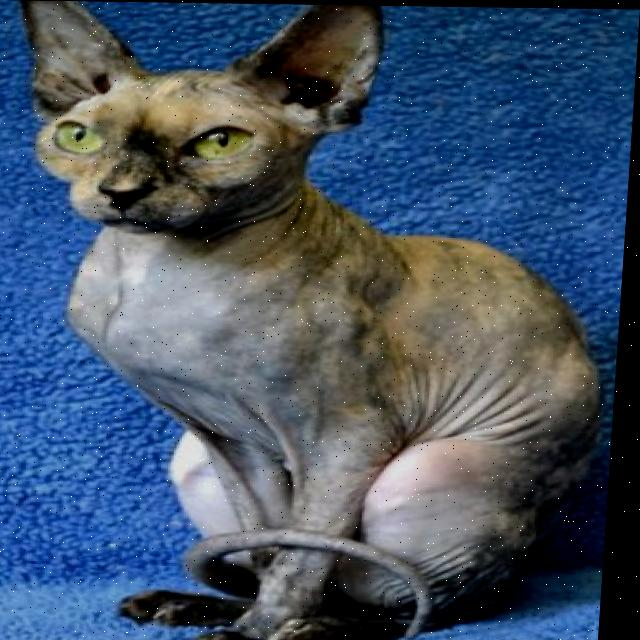Sphynx: (0, 0, 630, 640)
